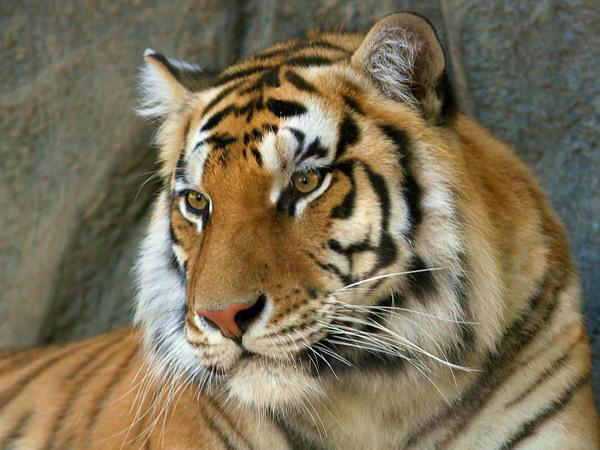tiger: (1, 9, 600, 450)
